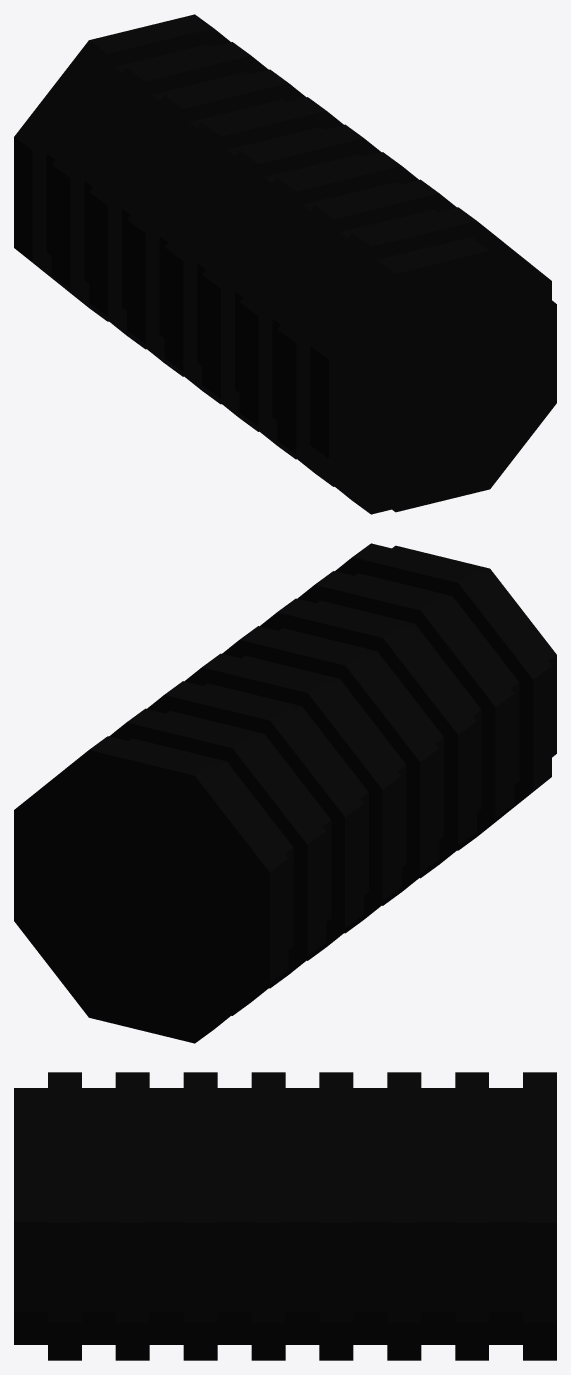
The model's file is crusher_rotor.obj.
3 views of the same model, one above another, from view 1: azimuth 30°, elevation 25°; view 2: azimuth 150°, elevation 25°; view 3: azimuth 270°, elevation 25° (orthographic). The views are drawn at different scales.
Visible parts, largest first — view 1: rotor_front; view 2: rotor_front; view 3: rotor_front.
Boxes of the visible parts, <box> form: rotor_front: <box>14,14,556,514</box>; rotor_front: <box>14,543,556,1043</box>; rotor_front: <box>14,1072,556,1360</box>.
Size of the model in its own units: 0.9817 by 0.9817 by 2.
